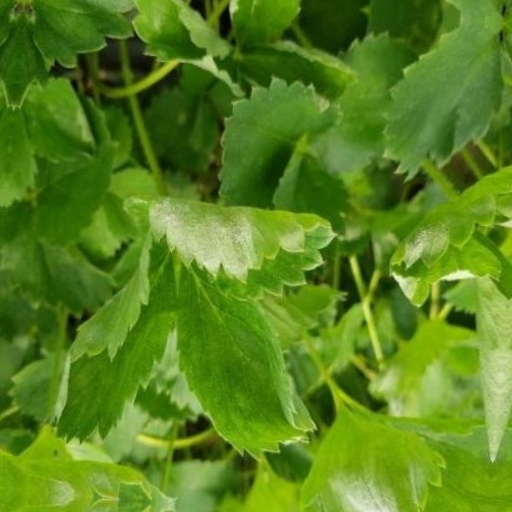Powdery Mildew Leaf: (58, 50, 184, 279), (117, 210, 334, 307), (389, 220, 511, 375), (110, 410, 233, 511)
